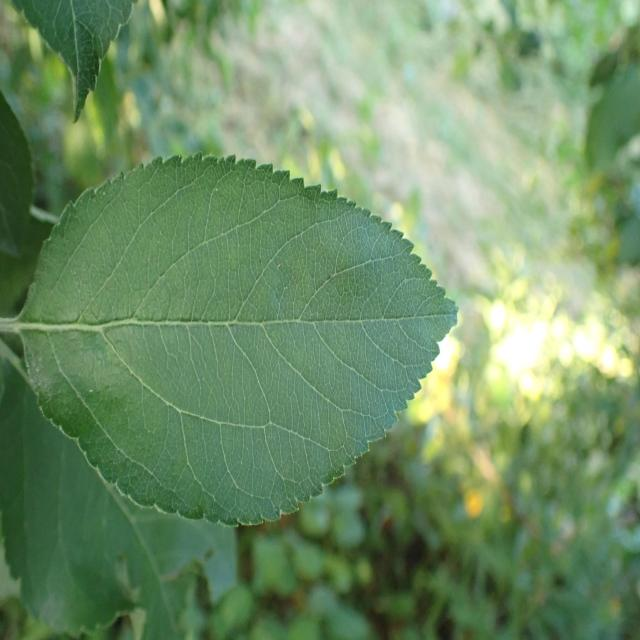healthy: (17, 151, 460, 527), (0, 356, 177, 636), (7, 1, 135, 125)
